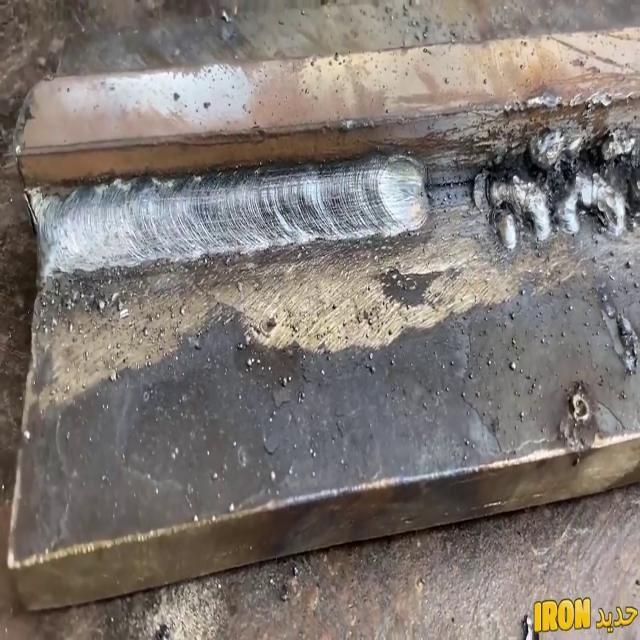Bad Weld: (470, 120, 640, 260)
Good Weld: (28, 156, 430, 282)
